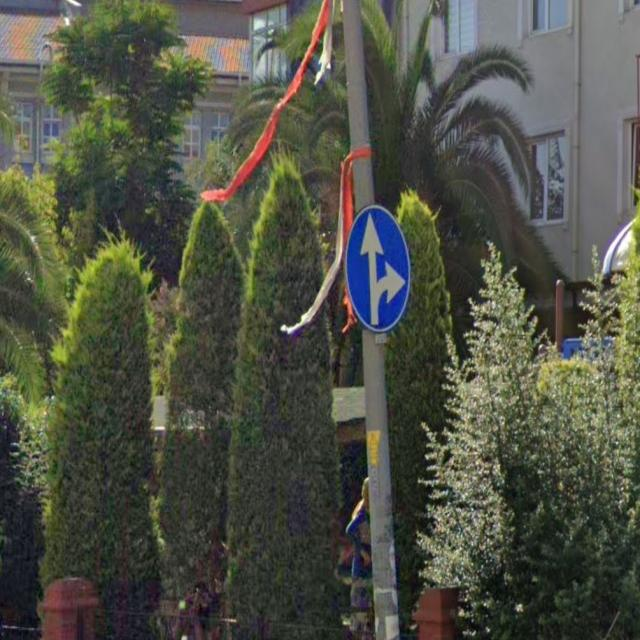ilerisag: (346, 205, 411, 332)
